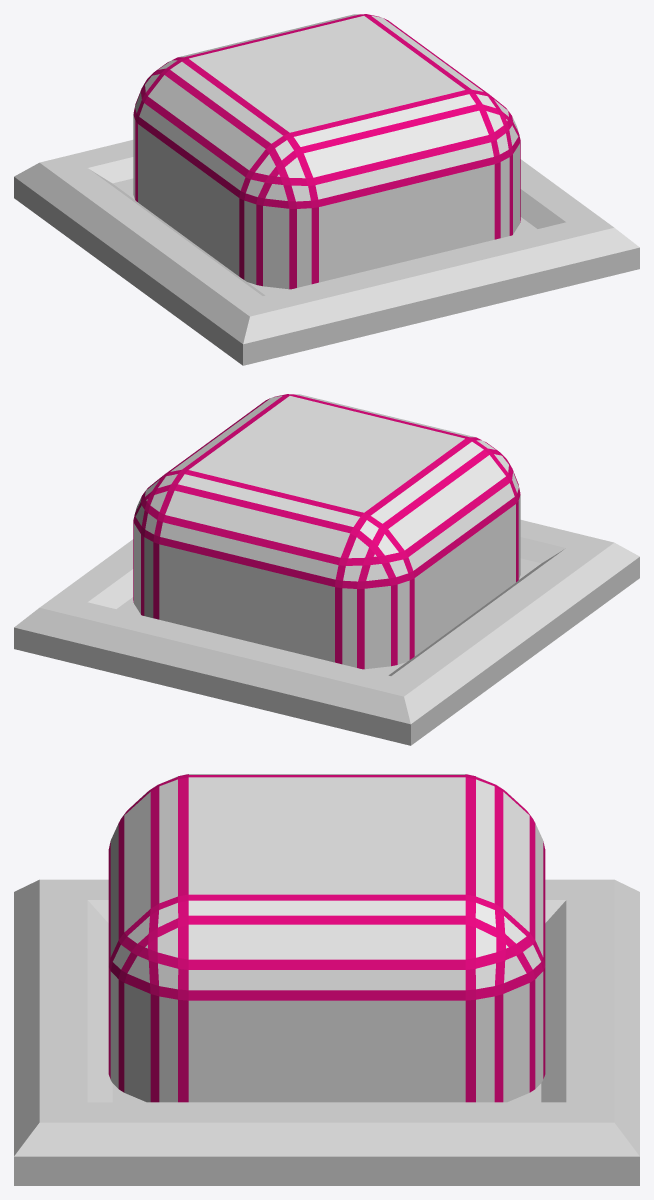
File: button.fbx
The picture shows the model from 3 angles, top to bottom: view 1: azimuth 30°, elevation 25°; view 2: azimuth 150°, elevation 25°; view 3: azimuth 270°, elevation 25°; orthographic projection. The views are drawn at different scales.
Visible parts, largest first — view 1: Cube, Base; view 2: Cube, Base; view 3: Cube, Base.
Part boxes in pixels (left/top/right/bottom): Cube: left=133, top=14, right=520, bottom=289; Base: left=14, top=140, right=639, bottom=365; Cube: left=133, top=394, right=520, bottom=669; Base: left=14, top=520, right=639, bottom=745; Cube: left=108, top=774, right=545, bottom=1102; Base: left=14, top=879, right=639, bottom=1185.
Bounding box in the file's own units: 200 × 76.73 × 200.
